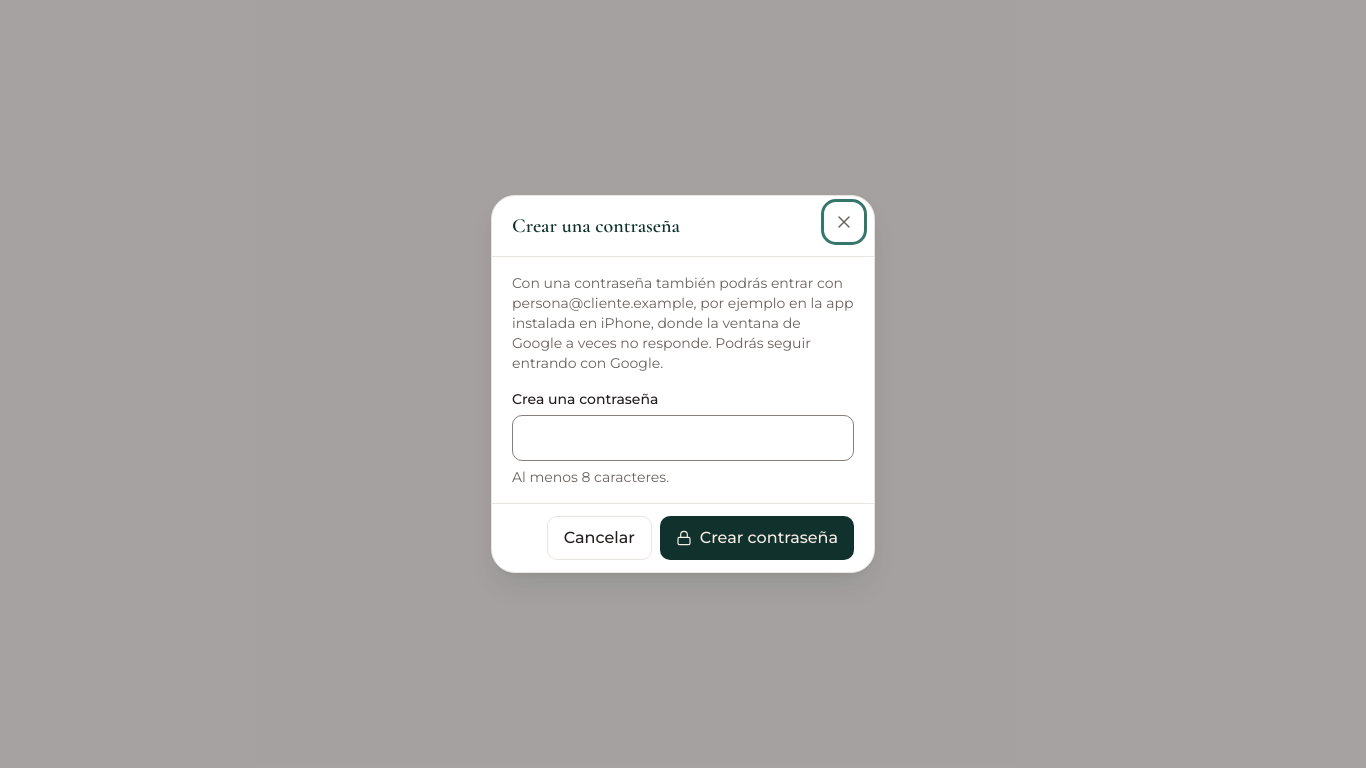
Test: a password for a Google account › when Google wants a recent sign-in, it says what to do
This screenshot has width=1366, height=768.
Type "una-contraseña-larga" into the password field labelled "Crea una contraseña" at (683, 438), box [512,415,854,461]
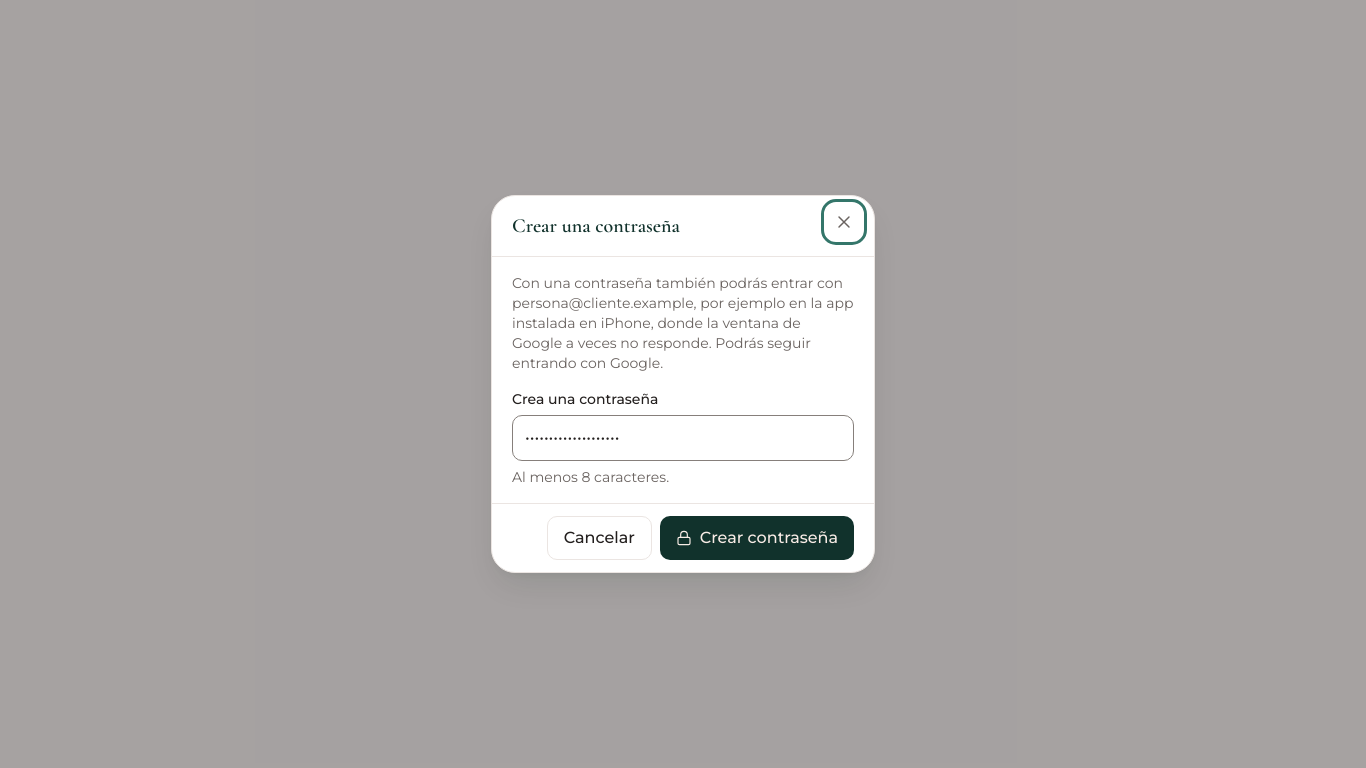
Click the button "Crear contraseña" at (757, 538), box [660,516,854,560]
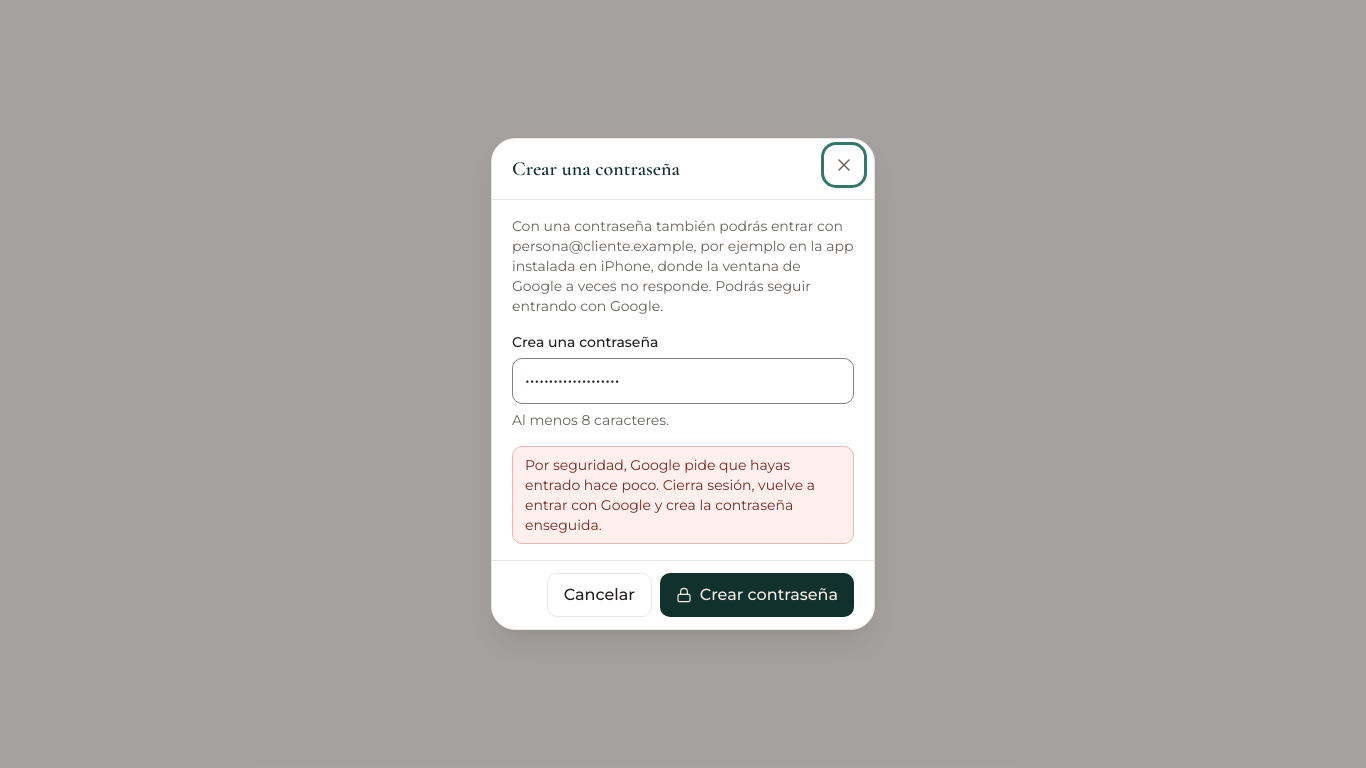
Now the message shows "vuelve a entrar con Google", box [525,456,815,534]
